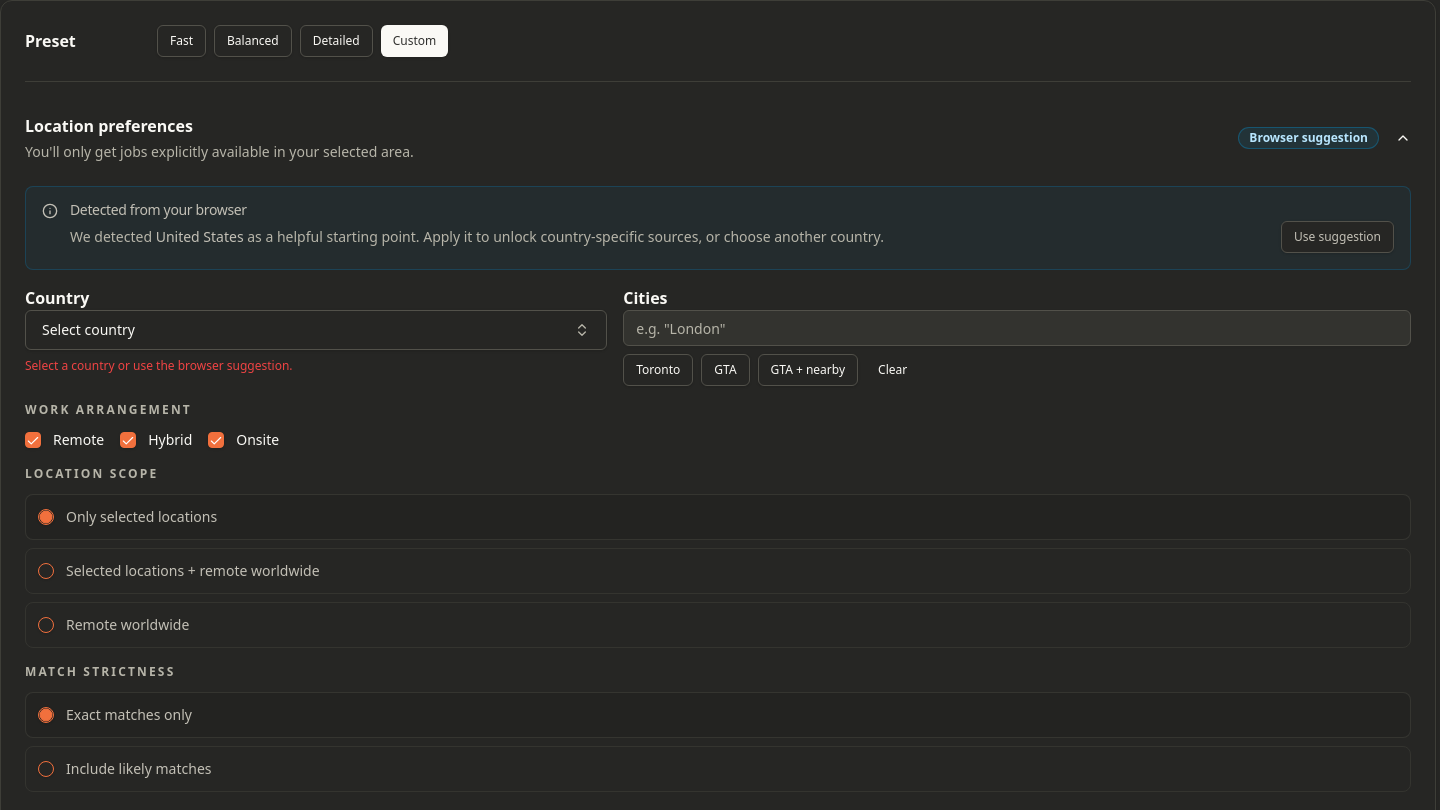
Test case: AutomaticRunTab › applies the browser country suggestion when requested
The image size is (1440, 810).
Click the button "Use suggestion": (1338, 237) x1=1281 y1=221 x2=1394 y2=253
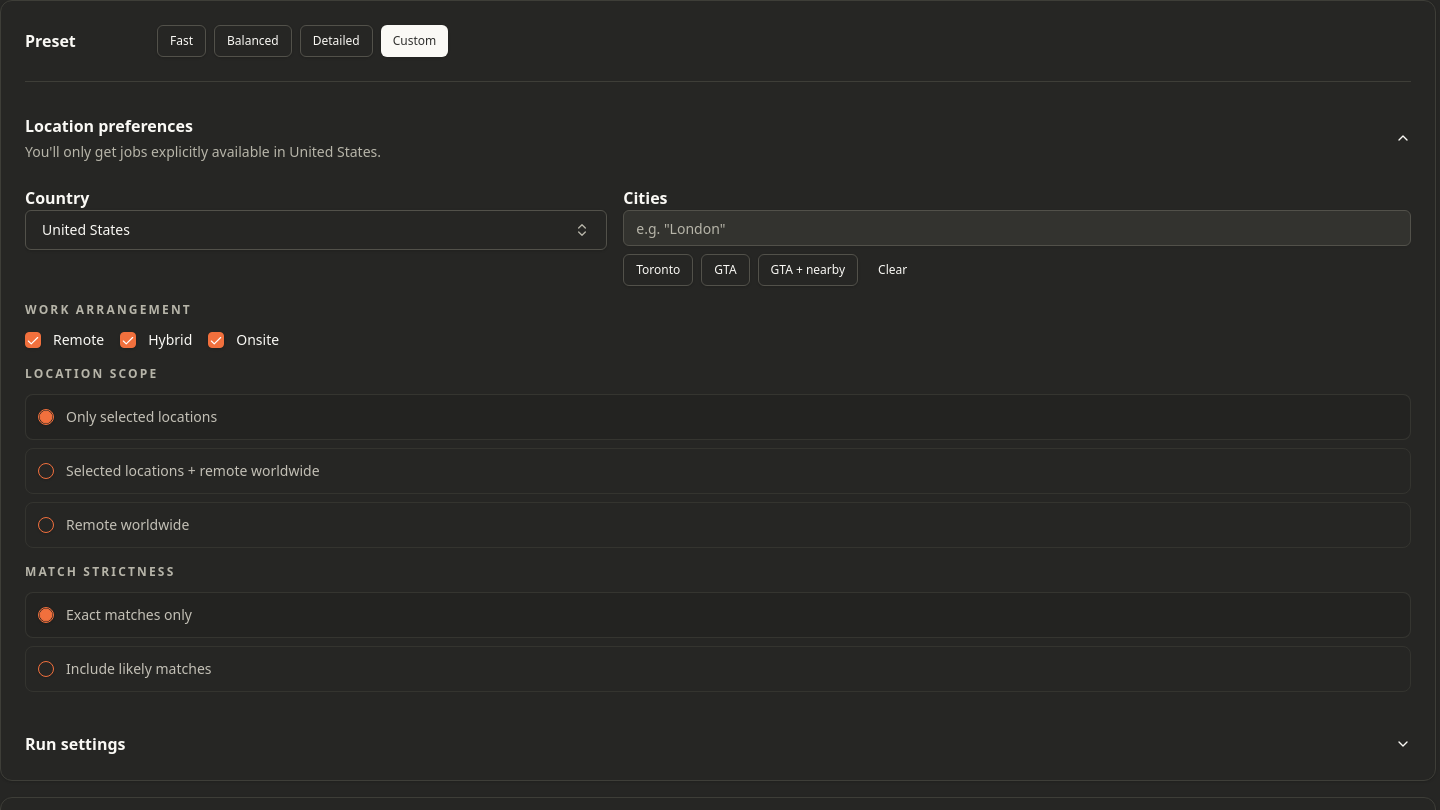
Now the button "United States" is shown, box x1=25 y1=210 x2=607 y2=250
Now the heading "Detected from your browser" is gone
